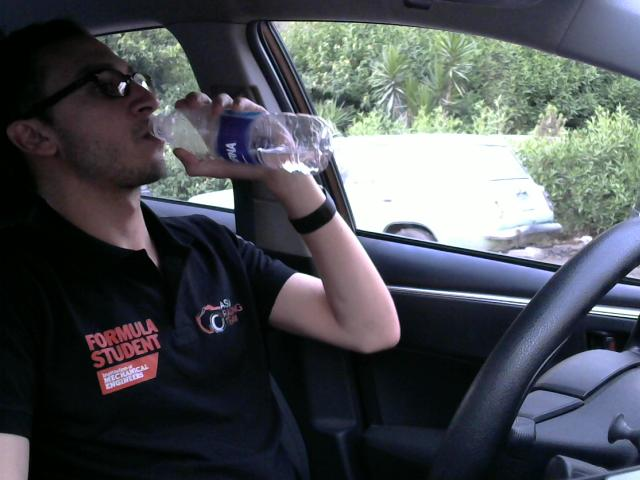Drinking: (141, 95, 342, 178)
